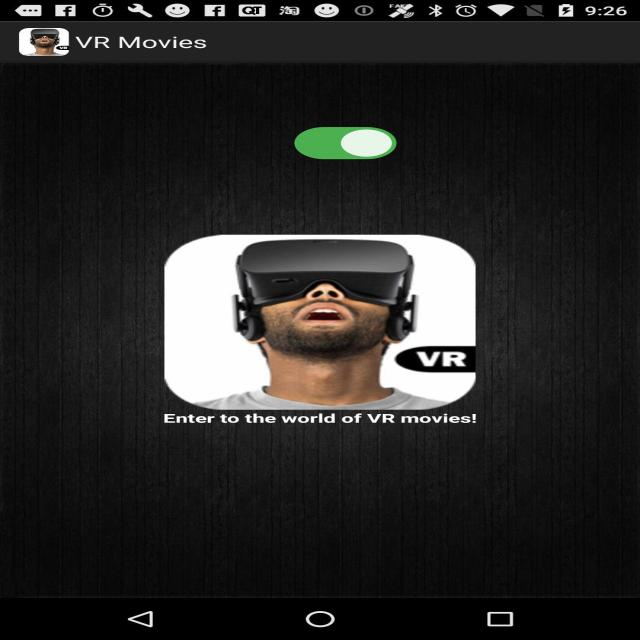social proof: (290, 115, 401, 174)
